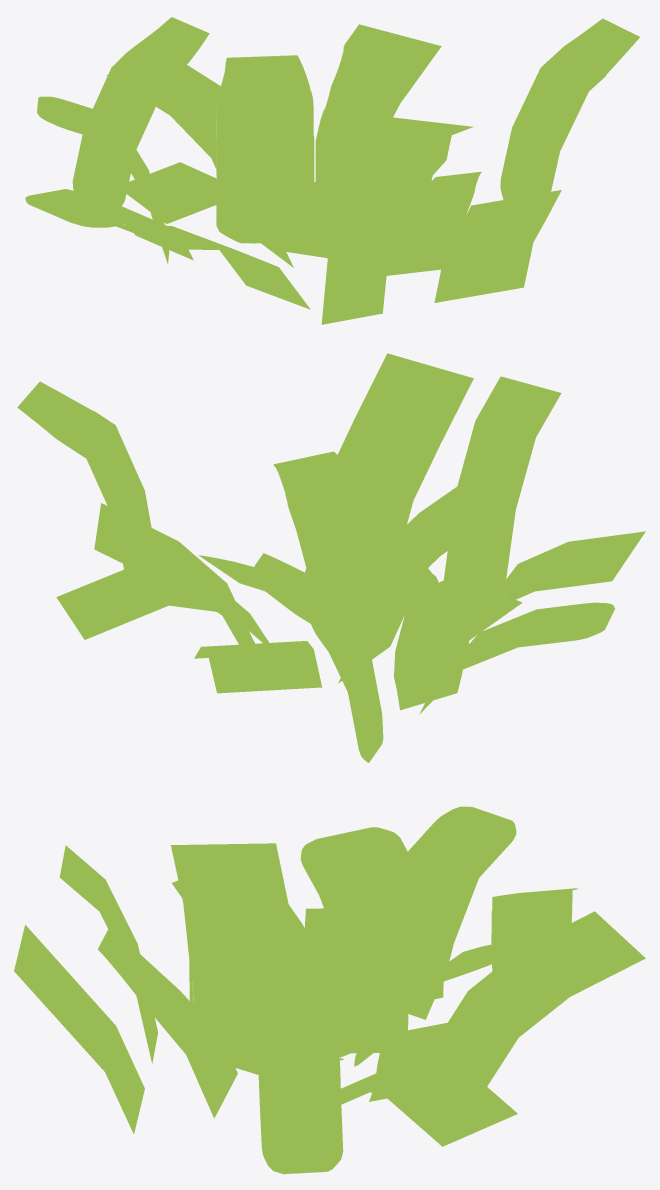
Rendered from grass.fbx.
3 views of the same model, one above another, from view 1: azimuth 30°, elevation 25°; view 2: azimuth 150°, elevation 25°; view 3: azimuth 270°, elevation 25° (orthographic). The views are drawn at different scales.
Parts seen in each view (by area): view 1: grass; view 2: grass; view 3: grass.
Part boxes in pixels (bbox=[...]): grass: bbox=[25, 17, 639, 324]; grass: bbox=[17, 353, 645, 762]; grass: bbox=[14, 806, 645, 1174].
Bounding box in the file's own units: 298 × 84.52 × 262.
Materials: 1 (1 with a texture image).
